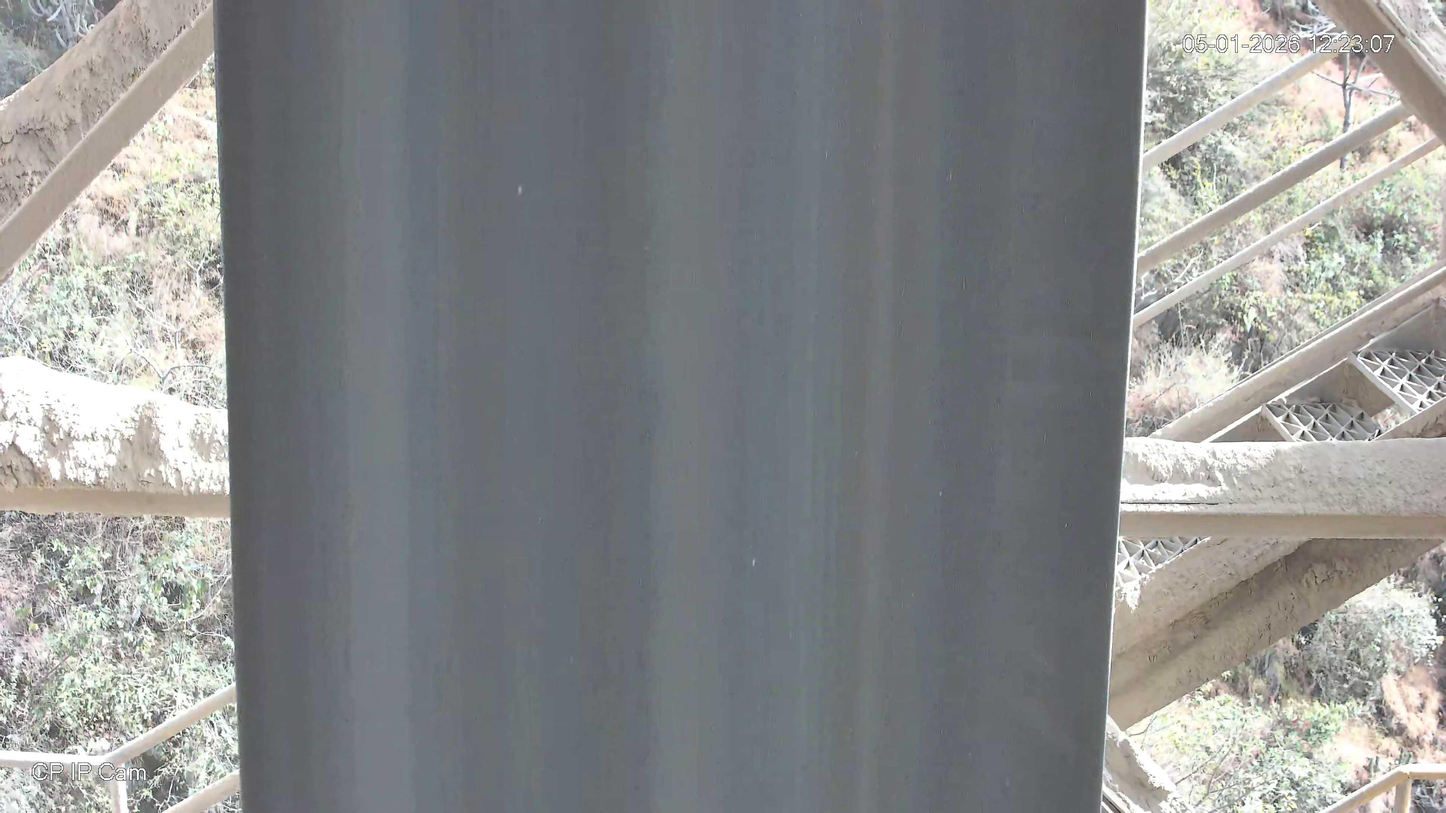belt_roi: (215, 0, 1151, 813)
